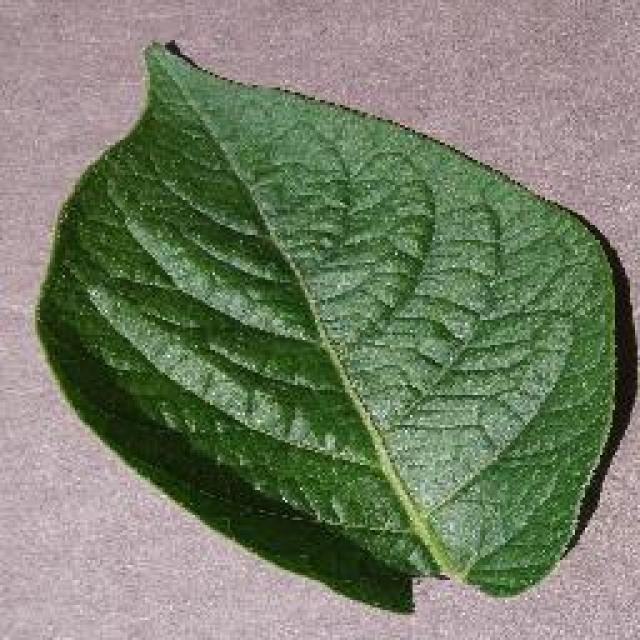Potato: (32, 35, 638, 613)
